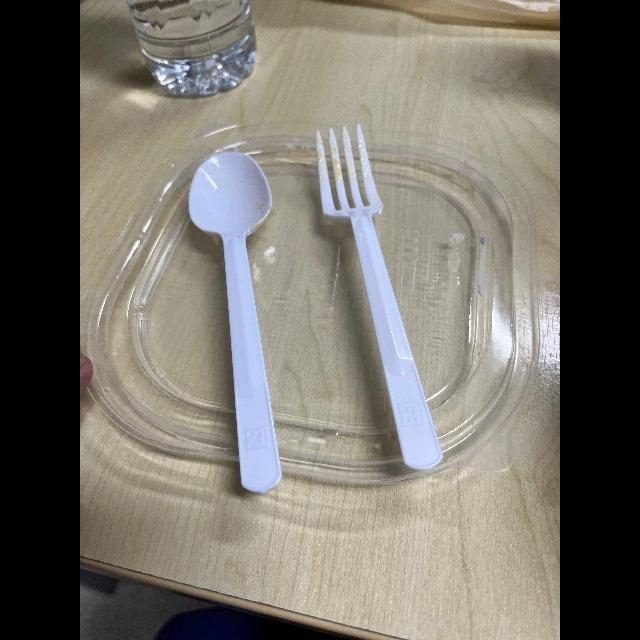plastic_cultery: (286, 116, 464, 480), (182, 146, 304, 512)
